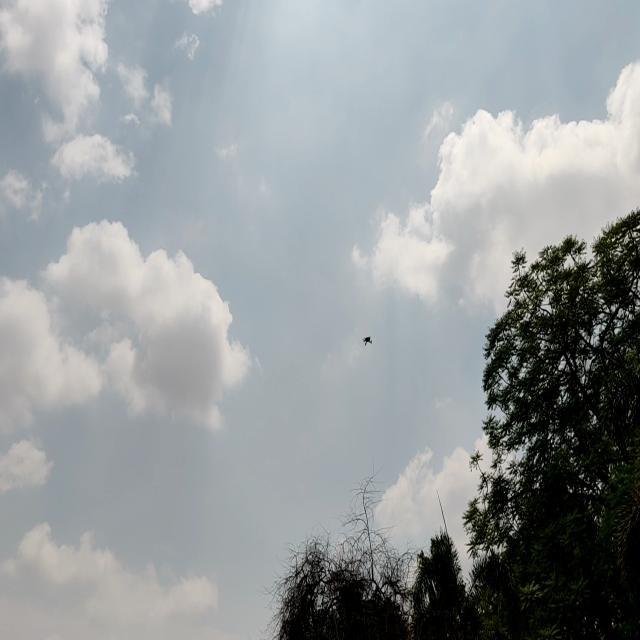drone: (358, 331, 378, 354)
